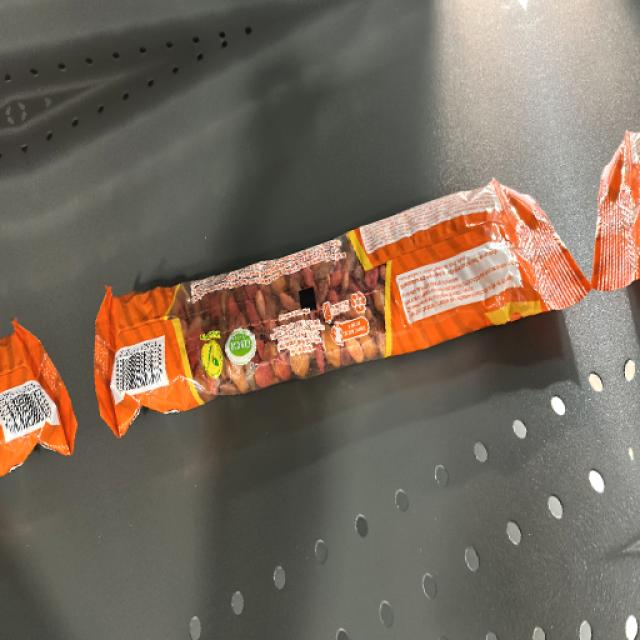bitzEnchilado95: (92, 216, 537, 390)
